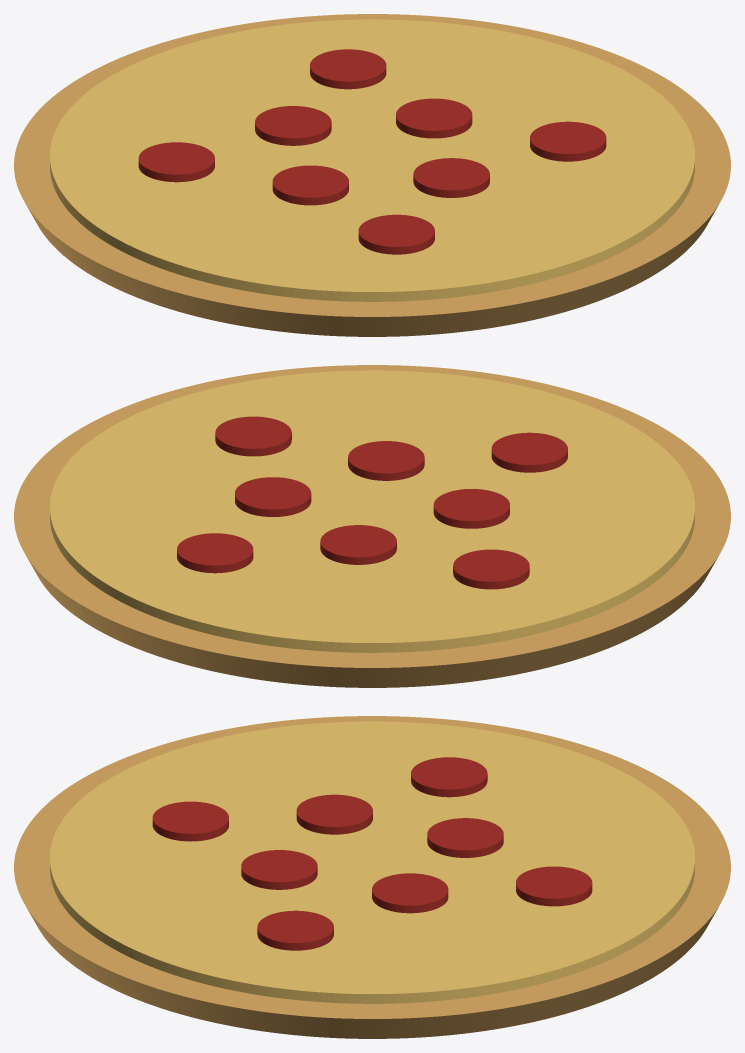
Rendered from pizza-hero.glb.
3 views of the same model, one above another, from view 1: azimuth 30°, elevation 25°; view 2: azimuth 150°, elevation 25°; view 3: azimuth 270°, elevation 25° (orthographic).
Size of the model in its own units: 0.3 by 0.02 by 0.3.
